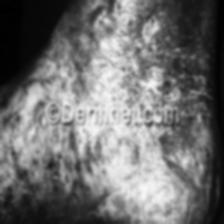Non-Cancerous Skin Condition: (14, 0, 209, 101), (52, 130, 211, 216), (0, 124, 42, 222)
